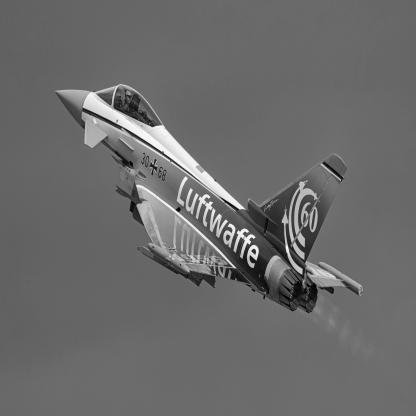EF2000: (55, 86, 364, 314)
